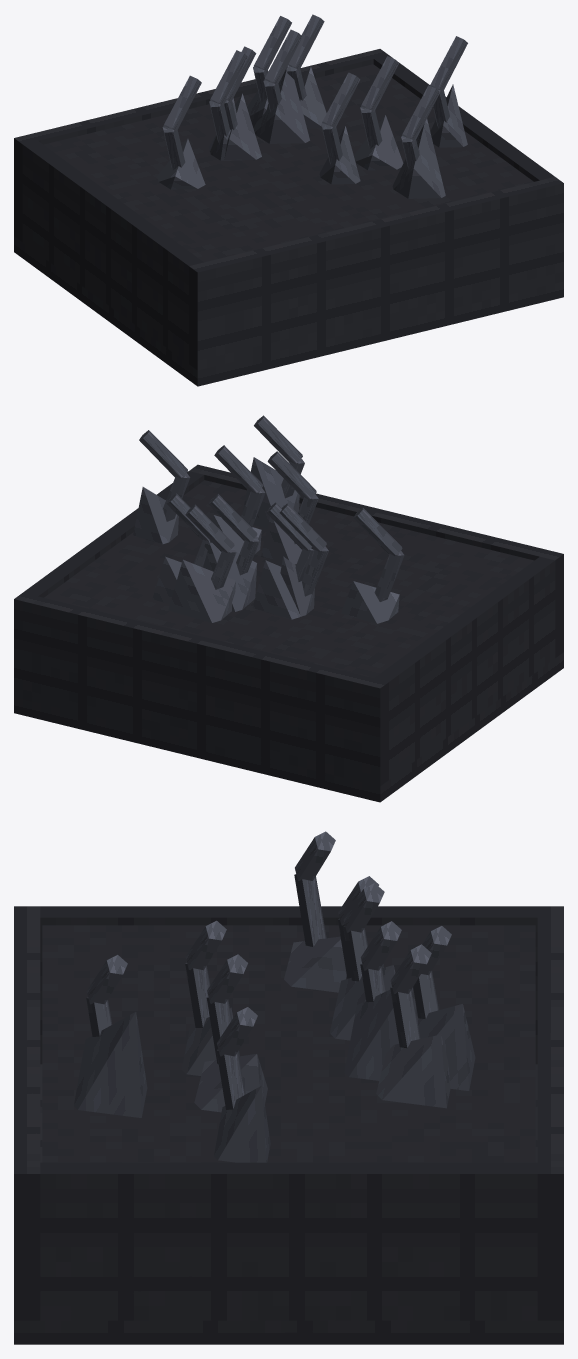
File: f_vitrified_planter.glb
3 views of the same model, one above another, from view 1: azimuth 30°, elevation 25°; view 2: azimuth 150°, elevation 25°; view 3: azimuth 270°, elevation 25° (orthographic). The views are drawn at different scales.
Visible parts, largest first — view 1: block_slatted-planter-end-1, block_planter-soil, block_slatted-planter-side--1, block_fused-glass-miscellany (×8), block_slatted-planter-base, block_twisted-frozen-sprout-2 (×9), block_slatted-planter-end--1, block_slatted-planter-side-1, block_twisted-frozen-sprout-1 (×4); view 2: block_slatted-planter-end--1, block_planter-soil, block_slatted-planter-side--1, block_fused-glass-miscellany (×10), block_slatted-planter-base, block_twisted-frozen-sprout-2 (×10), block_slatted-planter-end-1, block_twisted-frozen-sprout-1 (×6), block_slatted-planter-side-1; view 3: block_slatted-planter-side-1, block_planter-soil, block_fused-glass-miscellany (×9), block_slatted-planter-base, block_slatted-planter-end--1, block_slatted-planter-end-1, block_twisted-frozen-sprout-2 (×9), block_slatted-planter-side--1, block_twisted-frozen-sprout-1 (×9).
Boxes of the visible parts, box(x1,y1,x2,y2) form: block_slatted-planter-end-1: box(189, 177, 563, 370); block_planter-soil: box(44, 64, 533, 262); block_slatted-planter-side--1: box(22, 141, 203, 363); block_fused-glass-miscellany (×8): box(157, 65, 467, 198); block_slatted-planter-base: box(14, 236, 563, 386); block_twisted-frozen-sprout-2 (×9): box(163, 14, 467, 141); block_slatted-planter-end--1: box(14, 49, 388, 241); block_slatted-planter-side-1: box(373, 55, 554, 181); block_twisted-frozen-sprout-1 (×4): box(162, 101, 382, 170); block_slatted-planter-end--1: box(14, 593, 388, 786); block_planter-soil: box(44, 480, 534, 678); block_slatted-planter-side--1: box(374, 557, 555, 779); block_fused-glass-miscellany (×10): box(133, 457, 399, 623); block_slatted-planter-base: box(14, 652, 563, 802); block_twisted-frozen-sprout-2 (×10): box(139, 415, 402, 556); block_slatted-planter-end-1: box(189, 464, 563, 657); block_twisted-frozen-sprout-1 (×6): box(163, 473, 404, 601); block_slatted-planter-side-1: box(23, 471, 204, 597); block_slatted-planter-side-1: box(40, 1162, 537, 1320); block_planter-soil: box(42, 925, 535, 1162); block_fused-glass-miscellany (×9): box(74, 936, 475, 1162); block_slatted-planter-base: box(14, 1064, 563, 1344); block_slatted-planter-end--1: box(537, 906, 563, 1320); block_slatted-planter-end-1: box(14, 906, 40, 1320); block_twisted-frozen-sprout-2 (×9): box(86, 831, 451, 1056); block_slatted-planter-side--1: box(40, 906, 537, 1064); block_twisted-frozen-sprout-1 (×9): box(86, 874, 438, 1109).
Bounding box in the file's own units: 0.84 × 0.4631 × 0.73.
2 materials, 2 textured.
